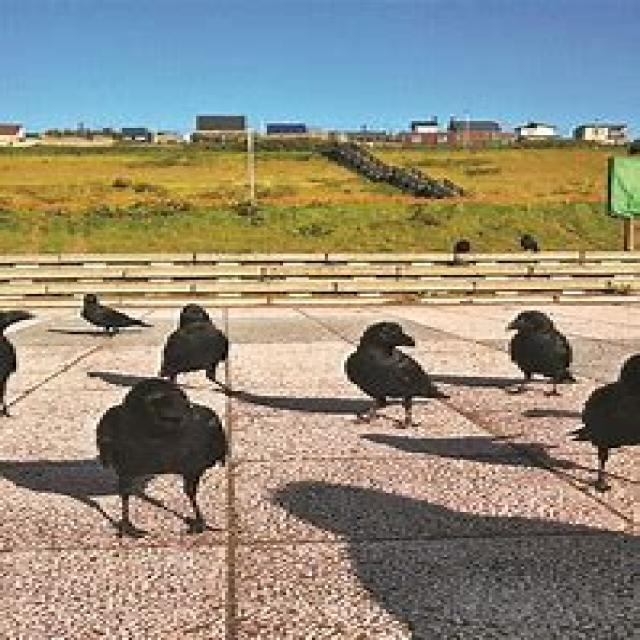crow: (84, 378, 225, 546), (340, 322, 448, 428), (573, 348, 640, 496), (160, 305, 232, 390), (505, 310, 573, 396), (77, 292, 154, 333), (517, 233, 544, 255), (454, 238, 474, 258)
